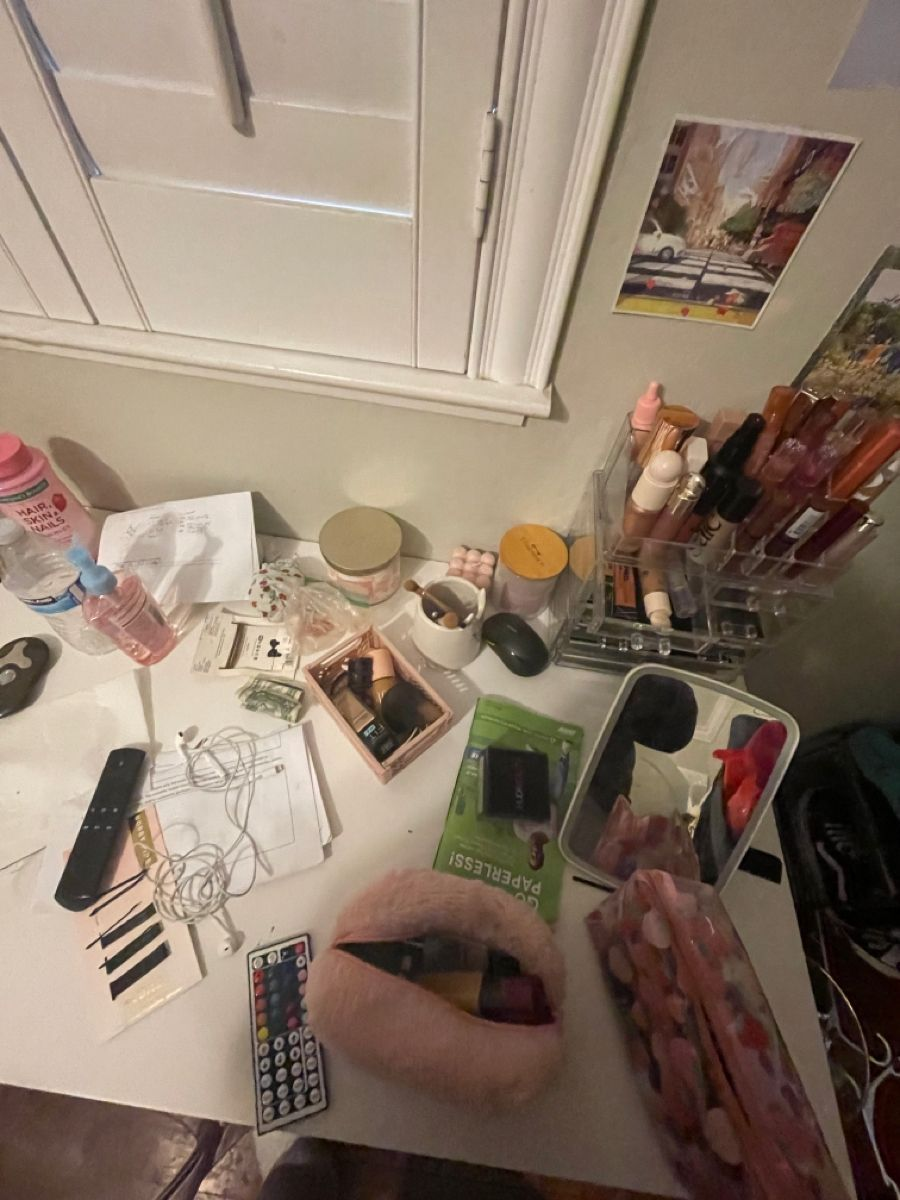not a gesture sign: (140, 461, 646, 957)
